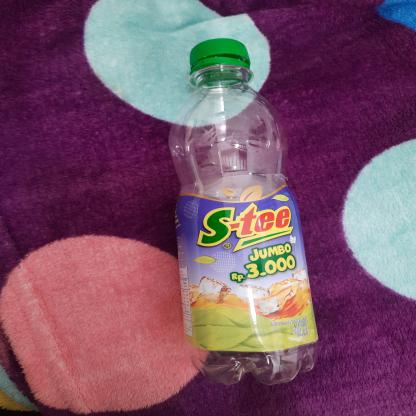bottle: (166, 34, 323, 390)
